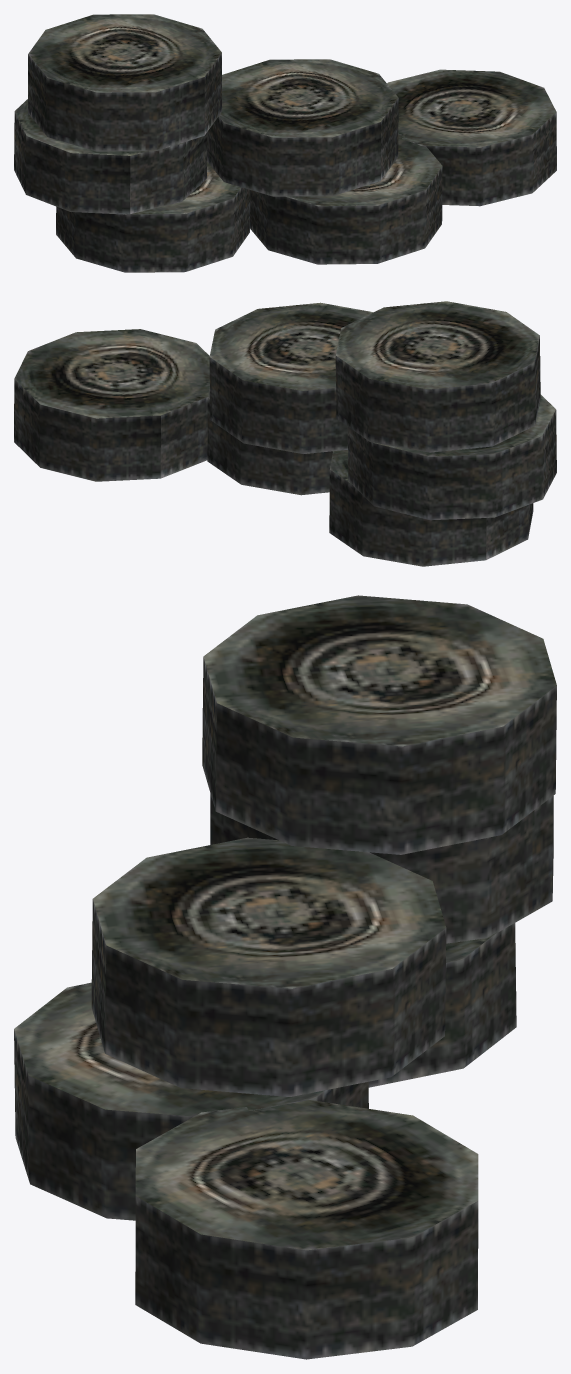
The model's file is Tire02.glb.
3 renders of one model, top to bottom at view 1: azimuth 30°, elevation 25°; view 2: azimuth 150°, elevation 25°; view 3: azimuth 270°, elevation 25°, orthographic. The views are drawn at different scales.
Parts seen in each view (by area): view 1: _Tire02; view 2: _Tire02; view 3: _Tire02.
Part boxes in pixels (x1,y1,x2,y2): _Tire02: [14, 14, 556, 272]; _Tire02: [14, 301, 556, 566]; _Tire02: [14, 595, 556, 1359].
Bounding box in the file's own units: 3.78 × 1.29 × 1.92.
Materials: 1 (1 with a texture image).
